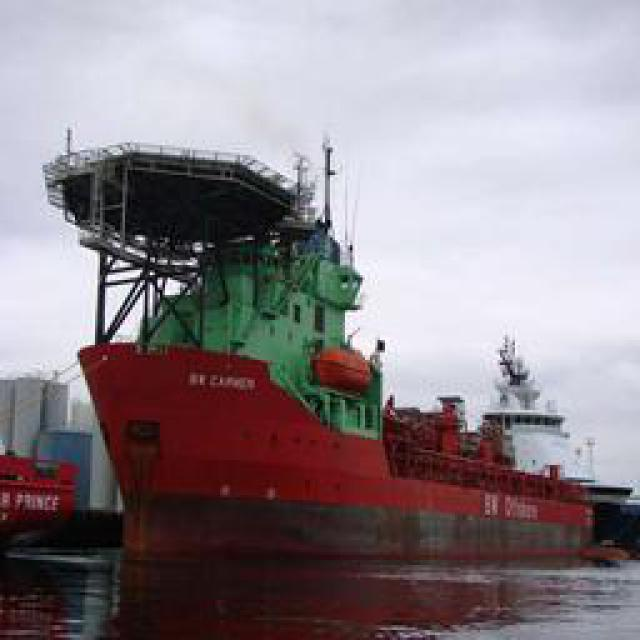Ship: (78, 130, 633, 570)
